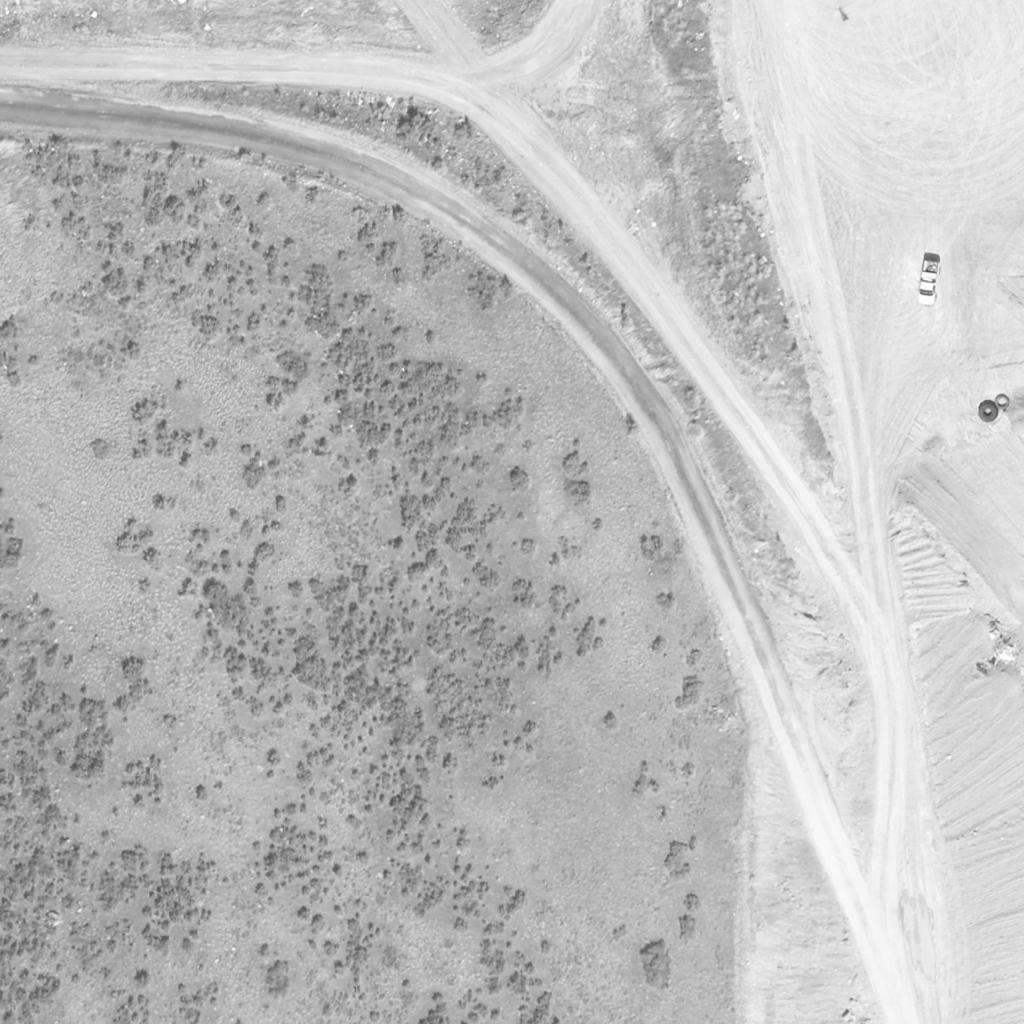vehicle: (915, 257, 943, 305)
